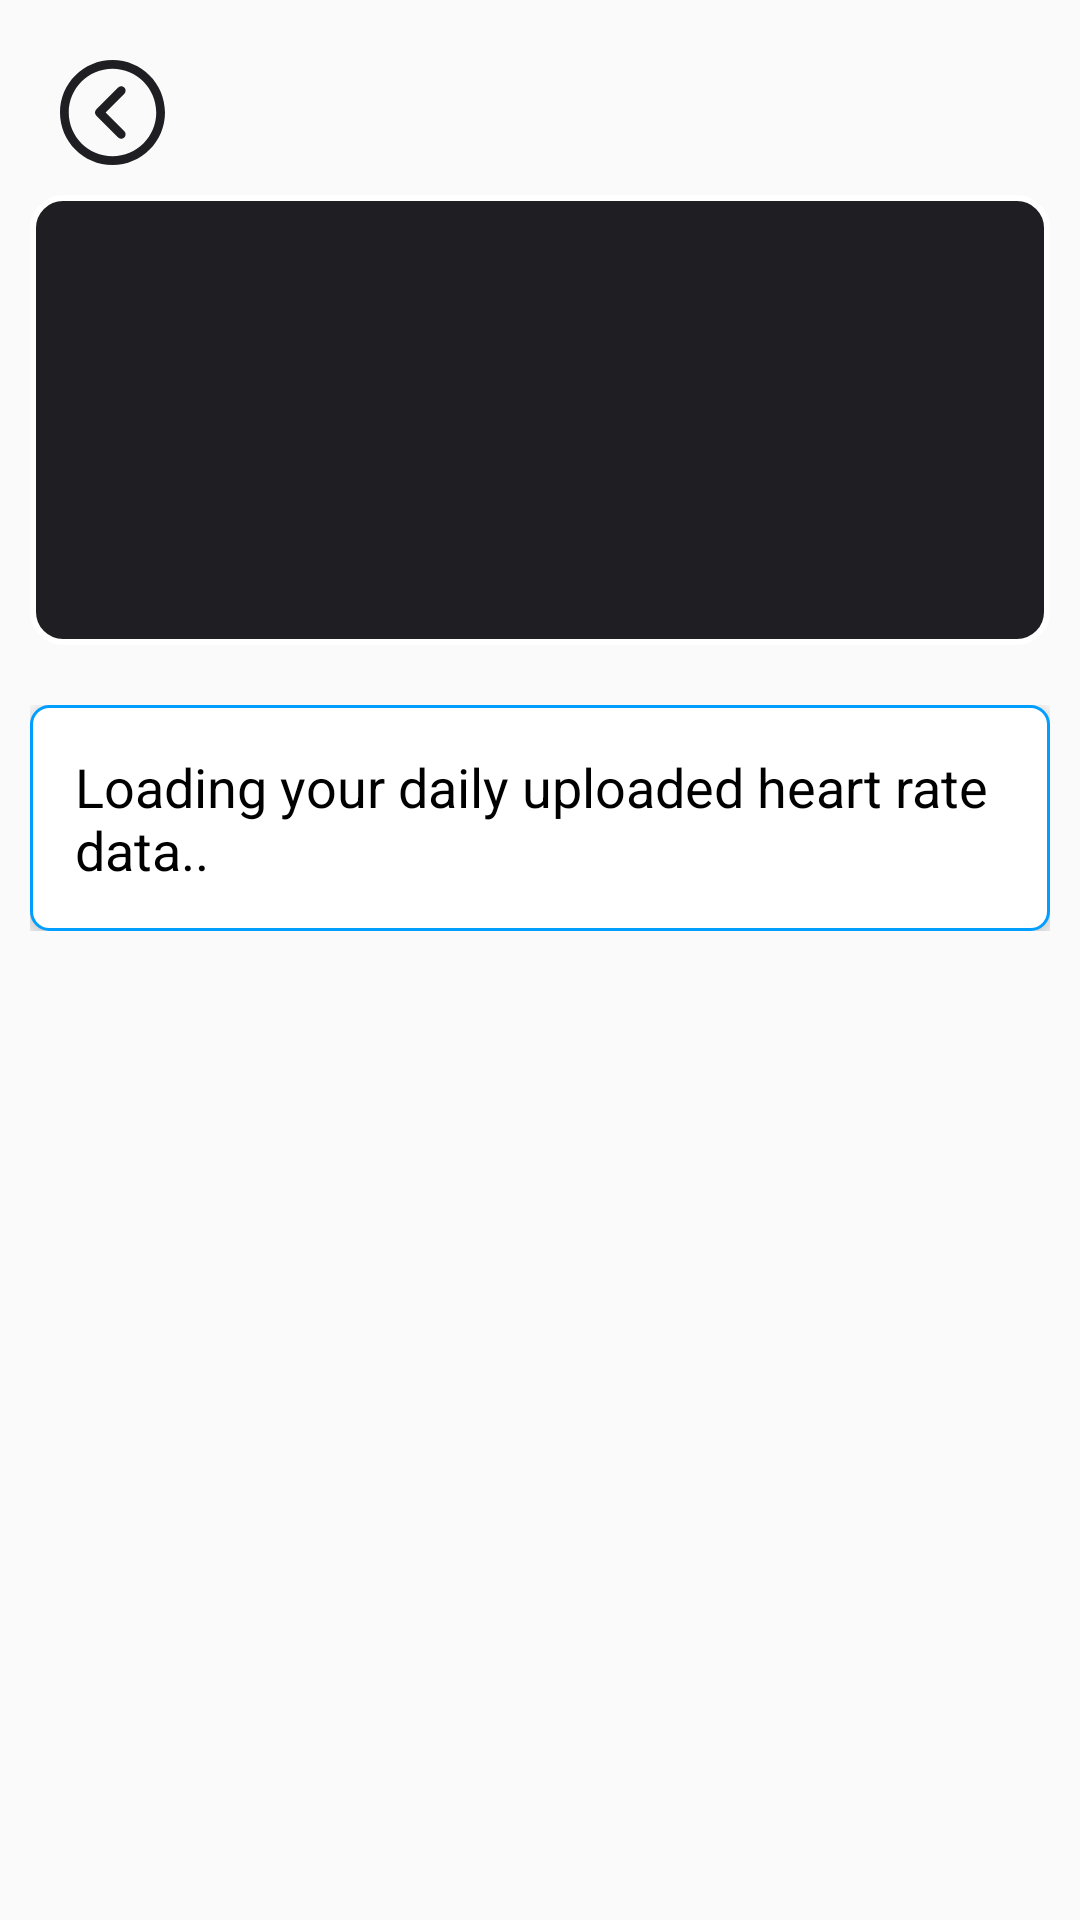

Icon bounding boxes for this 1080w x 1920h phone screenshot, format (x1, y1, x2, y2):
previous: (60, 60, 165, 165)
